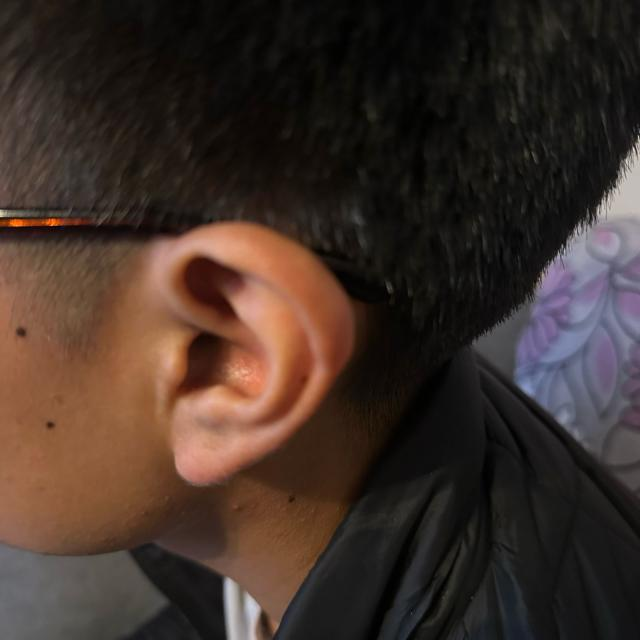ear: (142, 222, 355, 485)
